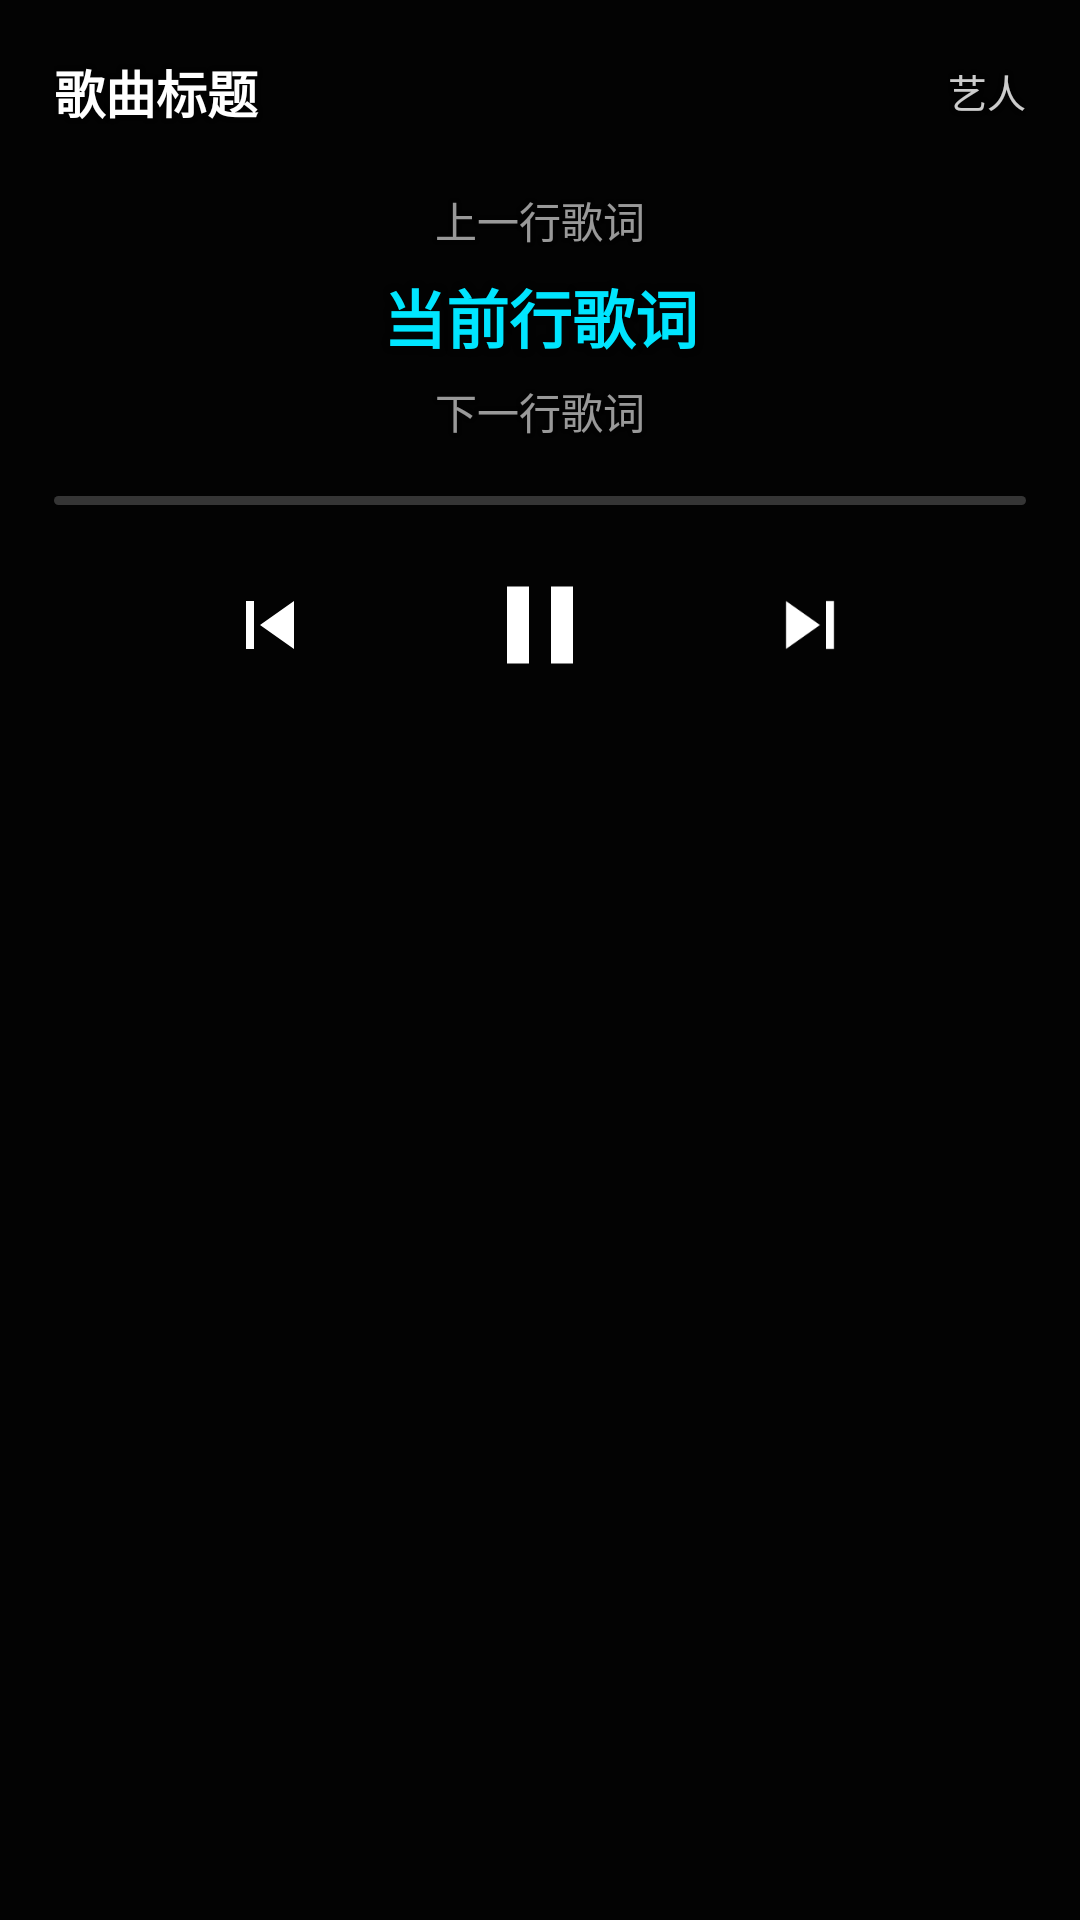

Named icons in this screenshot (1080x1920) and their bounding boxes, [left=x1, top=y1, right=x2, bottom=y2]:
上一首: [left=246, top=601, right=294, bottom=649]
下一首: [left=785, top=600, right=835, bottom=650]
播放暂停: [left=507, top=586, right=573, bottom=664]
